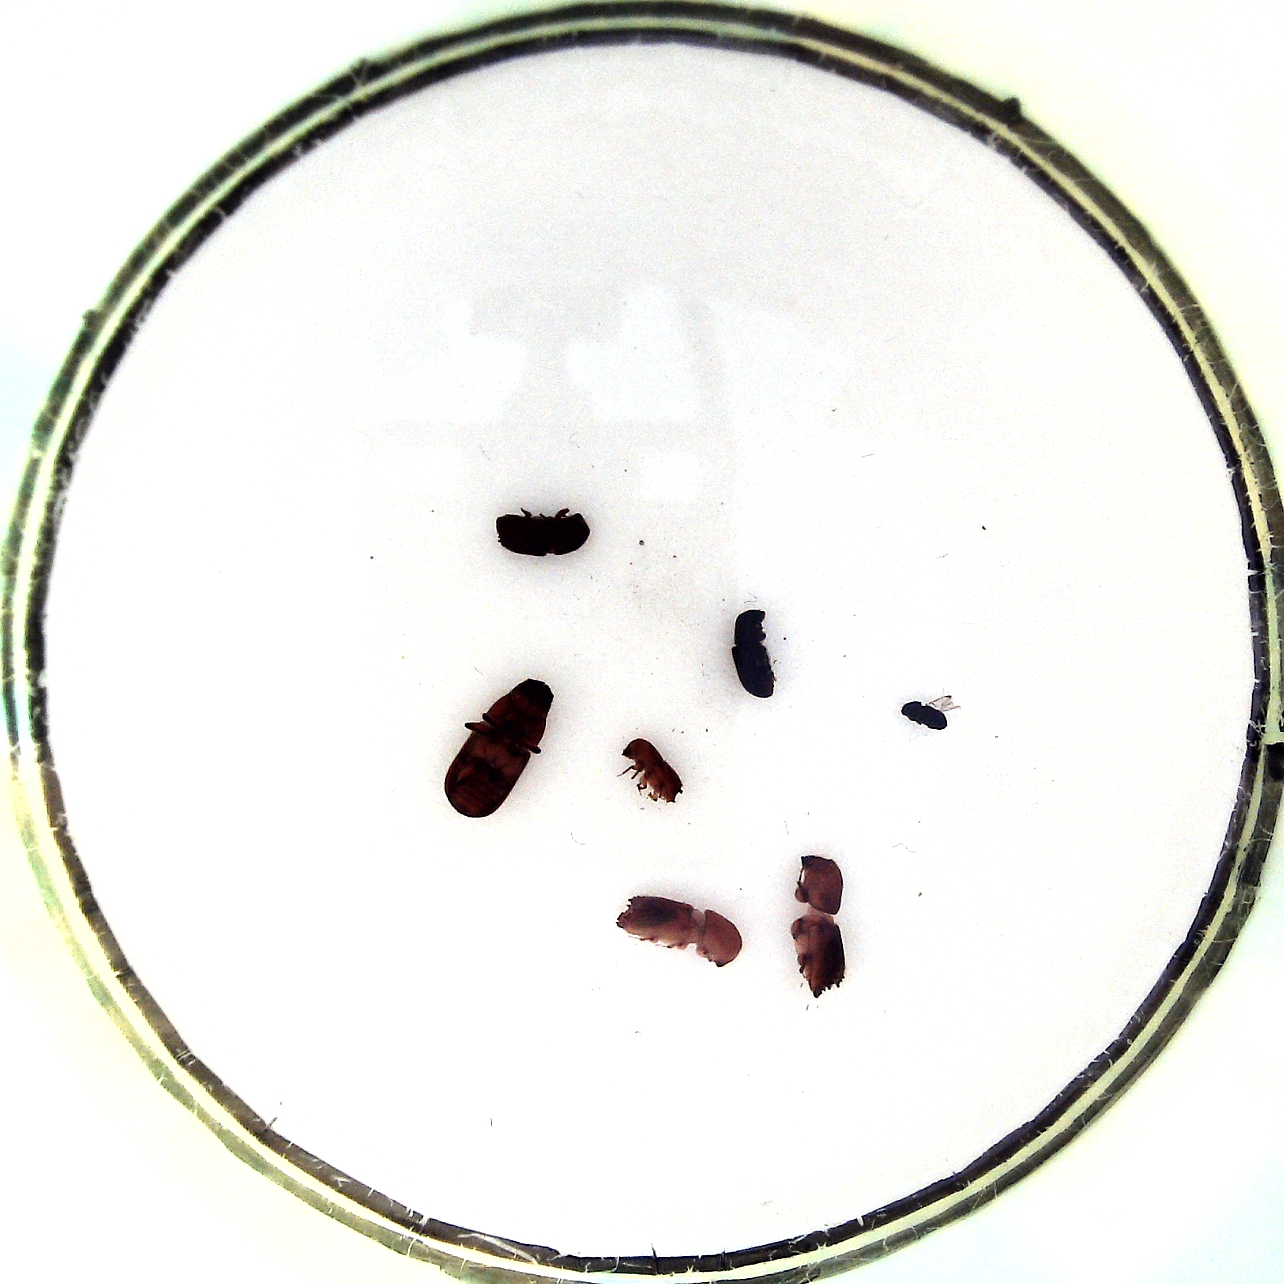Boerner: (611, 891, 748, 968), (785, 850, 852, 1003)
Leconte: (439, 675, 554, 824)
Linnaeus: (491, 506, 595, 559)
acuminatus: (616, 735, 687, 809)
armandi: (723, 603, 780, 701)
coleoptera: (897, 691, 957, 735)
